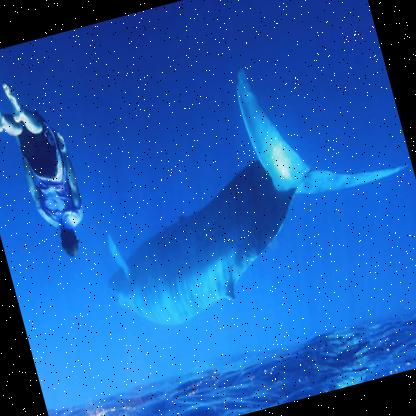blue_whale: (57, 23, 415, 366)
